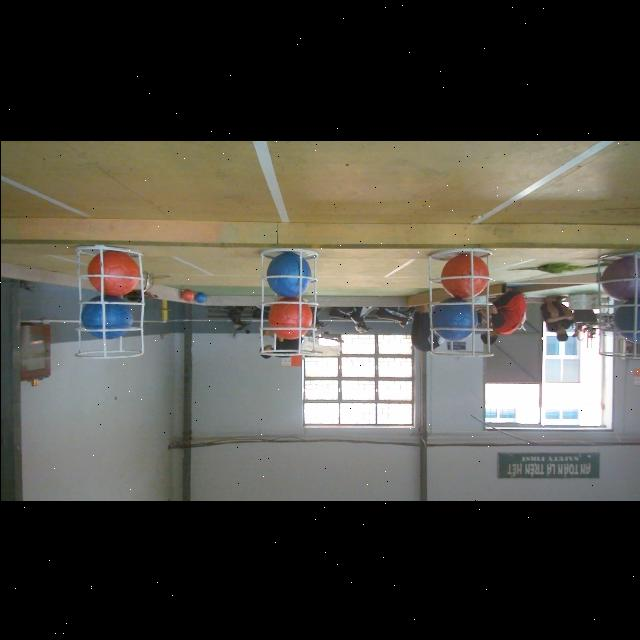B: (431, 296, 479, 344), (82, 295, 134, 339), (264, 251, 310, 295), (610, 302, 640, 344)
R: (88, 249, 140, 295), (438, 252, 489, 298), (266, 295, 312, 339)
